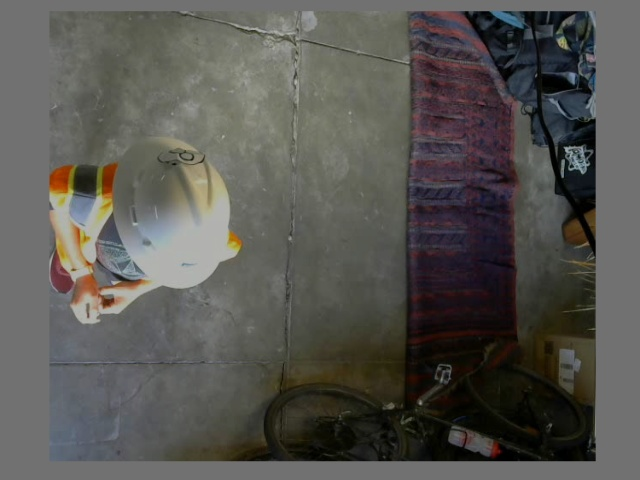eight: (155, 146, 206, 166)
